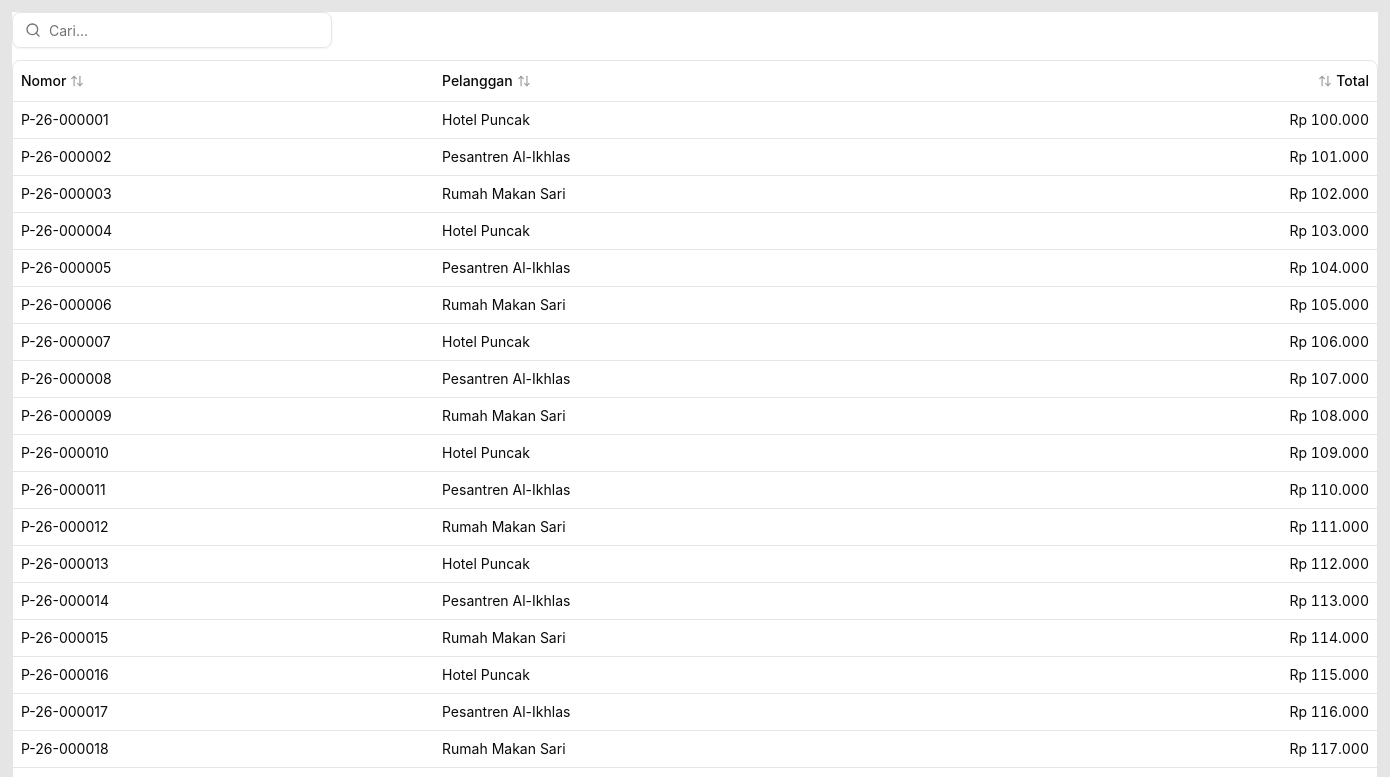
Test: DataTable (TanStack v9) › urut per kolom (klik header) dengan aria-sort
Click the button "Total": point(1344, 81) left=1310, top=67, right=1377, bottom=95
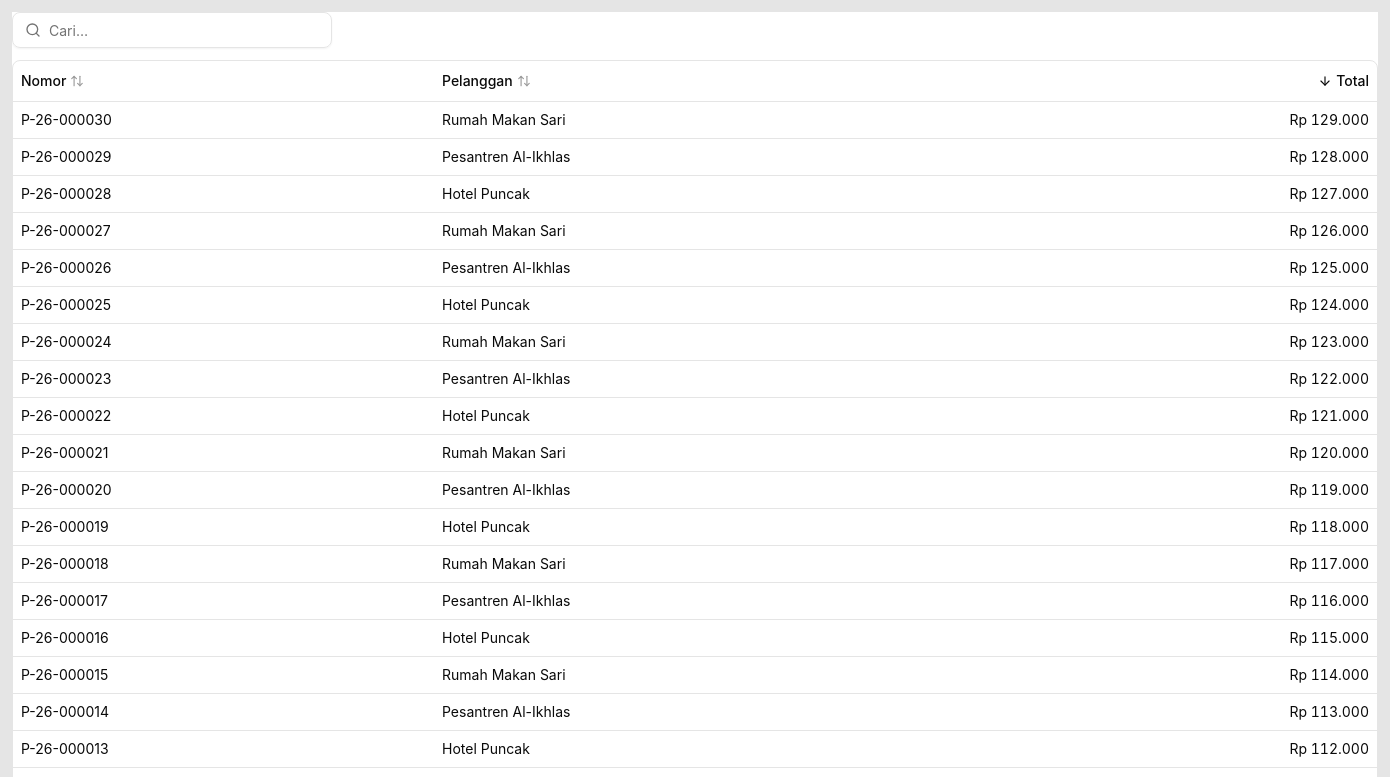
Click the button "Total": point(1344, 81) left=1310, top=67, right=1377, bottom=95
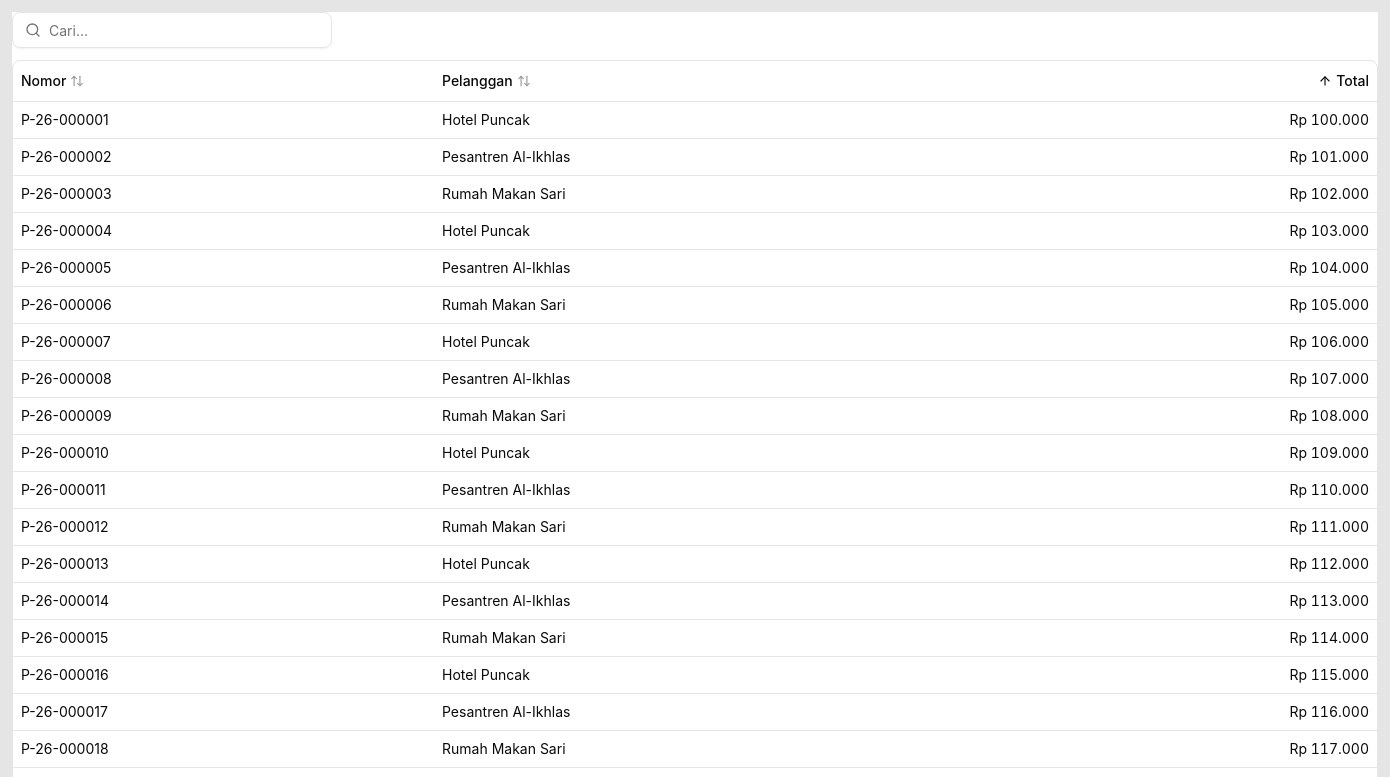
Expected: the text "Rp 100.000" is shown, left=1289, top=110, right=1369, bottom=128
Now the column heading "Total" does not have attribute aria-sort="descending", box left=1001, top=61, right=1377, bottom=101
